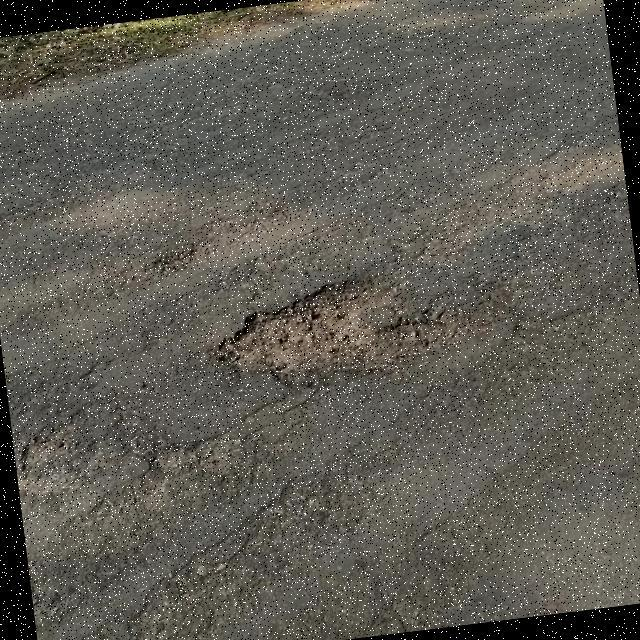Pothole: (213, 280, 493, 387)
